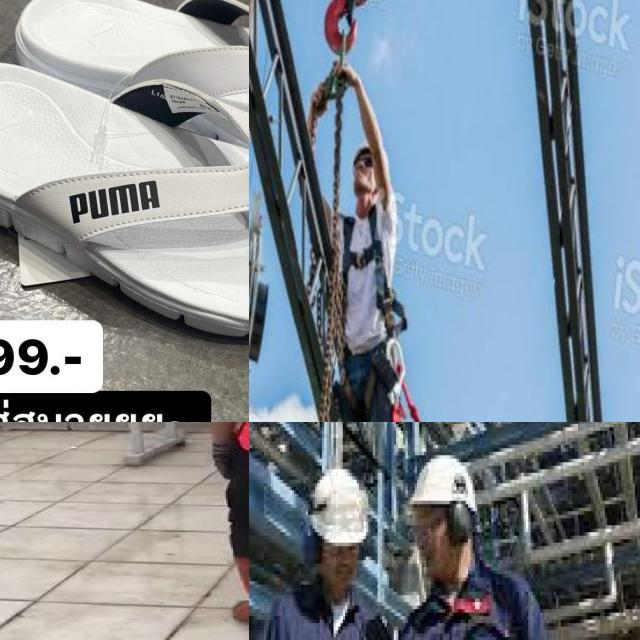Ear-protection: (445, 497, 470, 543), (304, 522, 324, 567), (354, 532, 370, 553)
Harness: (343, 207, 400, 334)
Sandals: (0, 0, 249, 366)
boots: (231, 555, 249, 632)
hand_glove: (206, 444, 238, 479)
head_helmet: (301, 466, 368, 550), (398, 448, 478, 512)
person: (405, 462, 537, 640), (250, 473, 389, 640)
